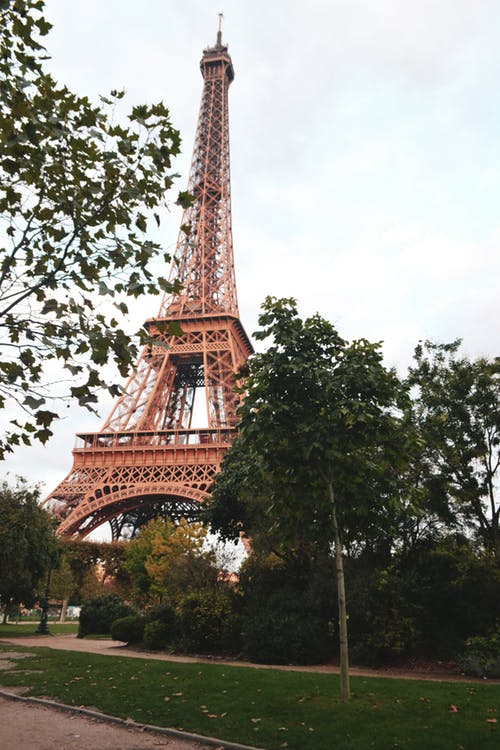eiffel tower: (56, 6, 291, 563)
